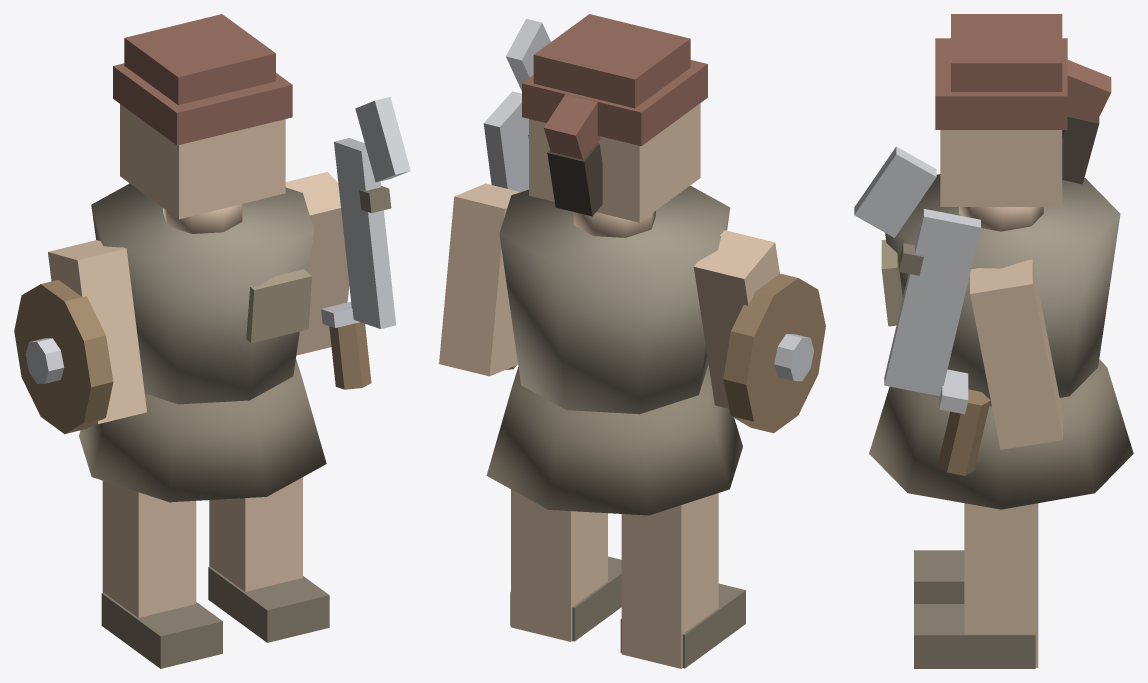
Rendered from troop-bandit.glb.
The picture shows the model from 3 angles, left to right: view 1: azimuth 30°, elevation 25°; view 2: azimuth 150°, elevation 25°; view 3: azimuth 270°, elevation 25°; orthographic projection. The views are drawn at different scales.
Parts seen in each view (by area): view 1: body, skirt, head, leg_l, buckler, scarf_cap, leg_r, arm_l, scarf_band, dao_blade, arm_r, foot_r (+8 smaller); view 2: body, skirt, leg_l, arm_r, leg_r, buckler, scarf_cap, head, arm_l, scarf_band, dao_blade, hair_tail (+6 smaller); view 3: skirt, body, arm_r, dao_blade, leg_r, head, scarf_cap, scarf_band, foot_r, dao_tip, dao_grip, foot_l (+6 smaller).
Part boxes in pixels (x1,y1,x2,y2): body: (91,183,314,404); skirt: (79,359,326,502); head: (120,104,285,219); leg_l: (102,481,196,617); buckler: (14,280,113,434); scarf_cap: (124,14,275,104); leg_r: (209,477,302,591); arm_l: (48,240,146,424); scarf_band: (113,63,292,145); dao_blade: (334,138,395,328); arm_r: (285,172,349,355); foot_r: (208,566,329,642); body: (499,185,730,414); skirt: (486,364,742,515); leg_l: (621,493,718,668); arm_r: (439,183,520,376); leg_r: (511,489,607,641); buckler: (723,273,825,433); scarf_cap: (533,14,690,108); head: (529,103,700,222); arm_l: (693,230,779,408); scarf_band: (522,60,707,146); dao_blade: (483,91,528,191); hair_tail: (547,143,602,216); skirt: (869,359,1133,509); body: (885,174,1120,406); arm_r: (970,259,1062,449); dao_blade: (884,209,980,396); leg_r: (964,503,1038,667); head: (940,130,1062,206); scarf_cap: (951,14,1062,91); scarf_band: (935,38,1067,129); foot_r: (914,604,1035,668); dao_tip: (854,146,936,237); dao_grip: (938,389,990,475); foot_l: (914,550,964,603).
Size of the model in its own units: 0.148 by 0.245 by 0.1056.
